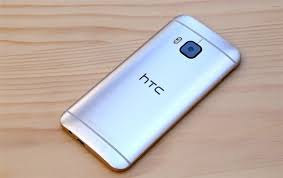htc: (59, 12, 247, 176)
